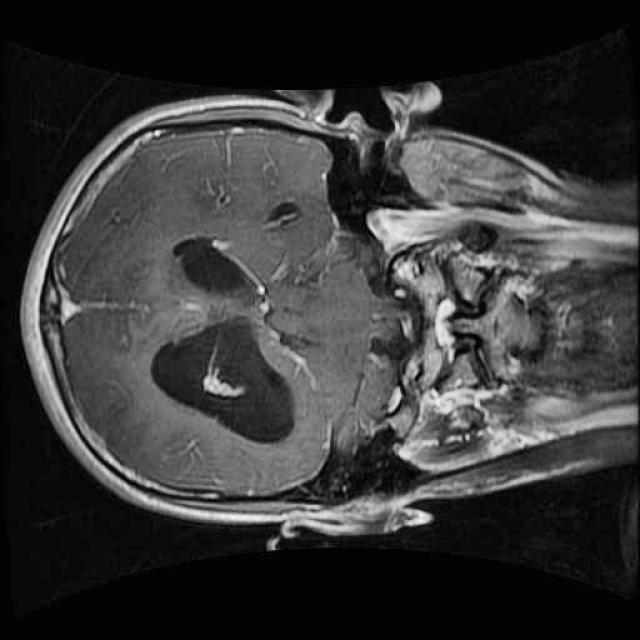Non-Tumor: (144, 301, 316, 462)
